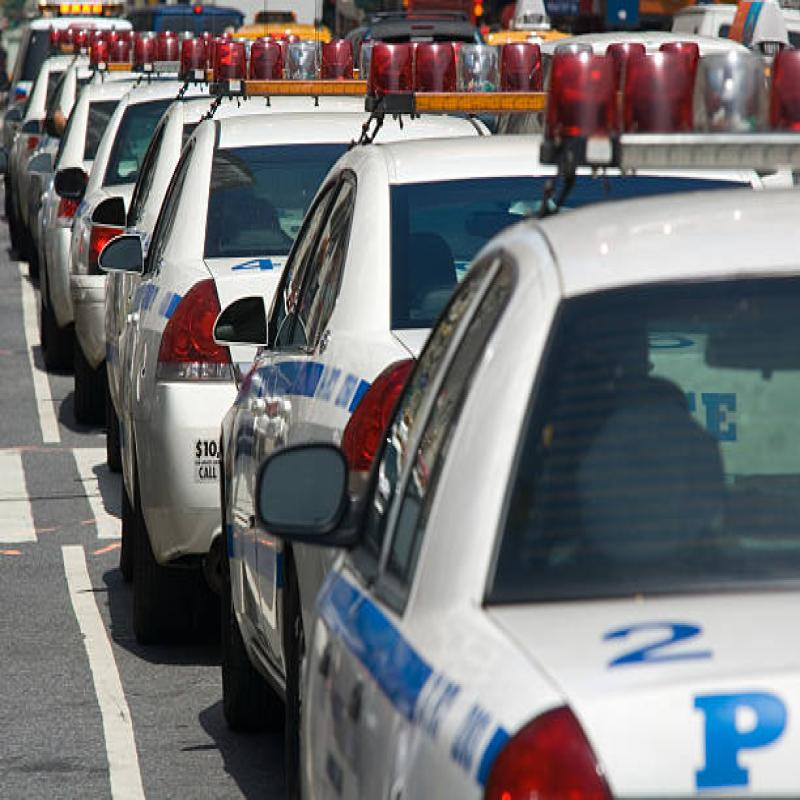AmbulanceSiren: (353, 22, 800, 173)
